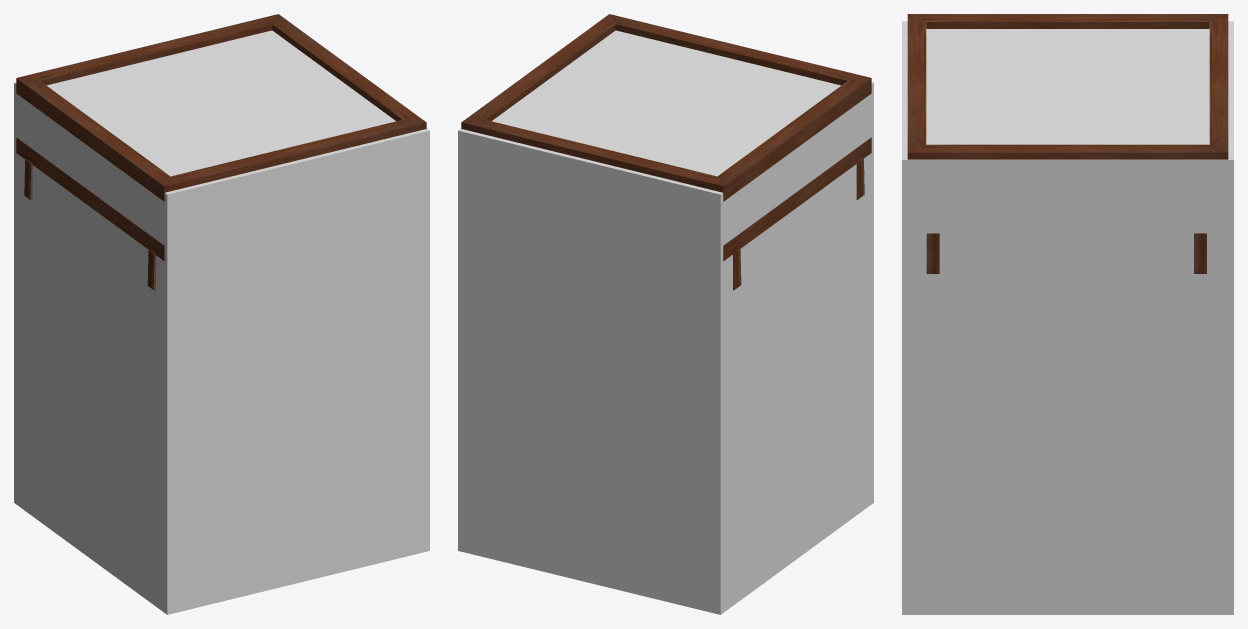
The model's file is YHJ_baozitan_b.FBX.
3 views of the same model, side by side, from view 1: azimuth 30°, elevation 25°; view 2: azimuth 150°, elevation 25°; view 3: azimuth 270°, elevation 25° (orthographic). The views are drawn at different scales.
Visible parts, largest first — view 1: YHJ_baozitan_b-col, YHJ_baozitan_b; view 2: YHJ_baozitan_b-col, YHJ_baozitan_b; view 3: YHJ_baozitan_b-col, YHJ_baozitan_b.
Boxes of the visible parts, left/top/right/bottom form: YHJ_baozitan_b-col: left=14, top=30, right=429, bottom=614; YHJ_baozitan_b: left=16, top=14, right=426, bottom=291; YHJ_baozitan_b-col: left=458, top=30, right=873, bottom=614; YHJ_baozitan_b: left=461, top=14, right=871, bottom=290; YHJ_baozitan_b-col: left=902, top=21, right=1233, bottom=614; YHJ_baozitan_b: left=907, top=14, right=1228, bottom=273.
Size of the model in its own units: 0.9864 by 1.51 by 0.9804.
